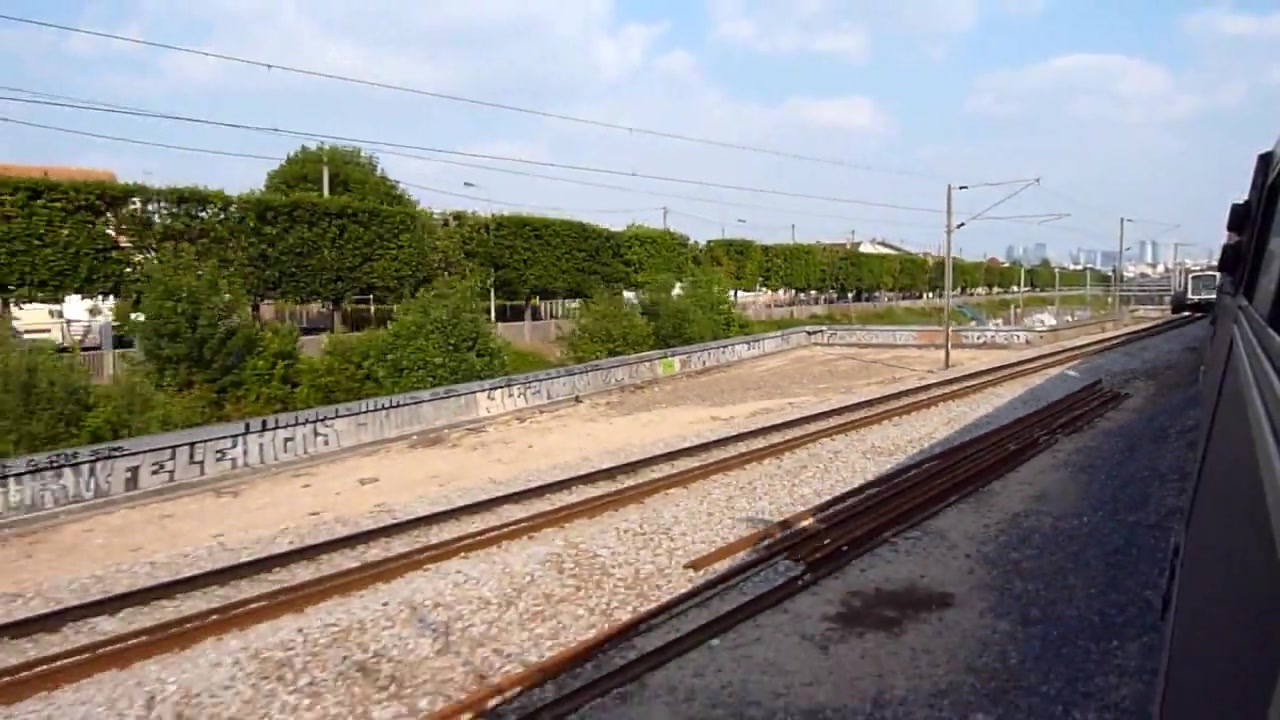train: (1151, 131, 1279, 720)
